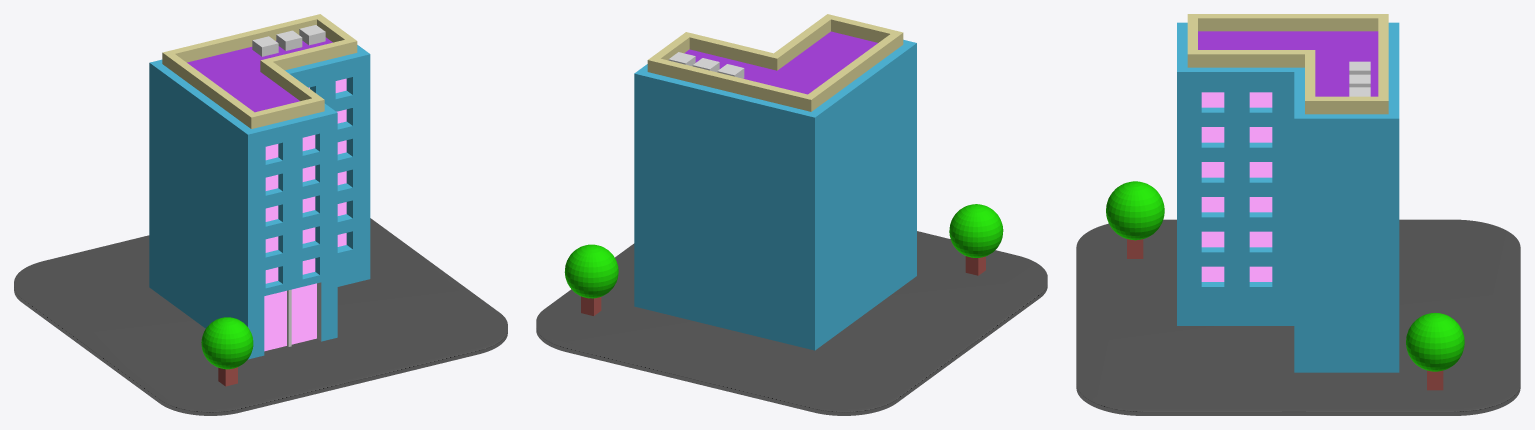
File: building.glb
3 renders of one model, left to right at view 1: azimuth 30°, elevation 25°; view 2: azimuth 150°, elevation 25°; view 3: azimuth 270°, elevation 25°, orthographic. The views are drawn at different scales.
Visible parts, largest first — view 1: Cube, 立方体.004, 球; view 2: Cube, 立方体.004, 球.002, 球; view 3: Cube, 立方体.004, 球, 球.002.
Boxes of the visible parts, left/top/right/bottom form: Cube: left=149, top=14, right=370, bottom=359; 立方体.004: left=14, top=218, right=507, bottom=415; 球: left=201, top=317, right=253, bottom=369; Cube: left=634, top=14, right=916, bottom=350; 立方体.004: left=536, top=231, right=1047, bottom=415; 球.002: left=564, top=244, right=618, bottom=298; 球: left=949, top=204, right=1003, bottom=257; Cube: left=1177, top=14, right=1399, bottom=372; 立方体.004: left=1076, top=219, right=1520, bottom=415; 球: left=1106, top=181, right=1164, bottom=240; 球.002: left=1406, top=312, right=1464, bottom=371.
Size of what is drawn, in the model's own units: 7.58 by 5.2 by 7.58.
